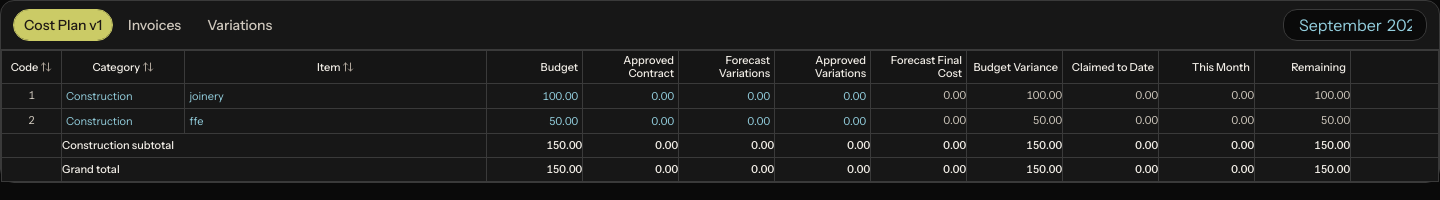
Test: CostPlanGrid › shows a cached Cost Plan and invoice register without a loading flash
Expected: the field named "joinery name" is shown, x1=185 y1=84 x2=486 y2=108
Click the tab "Invoices": coordinates (155, 25) x1=117 y1=9 x2=192 y2=41
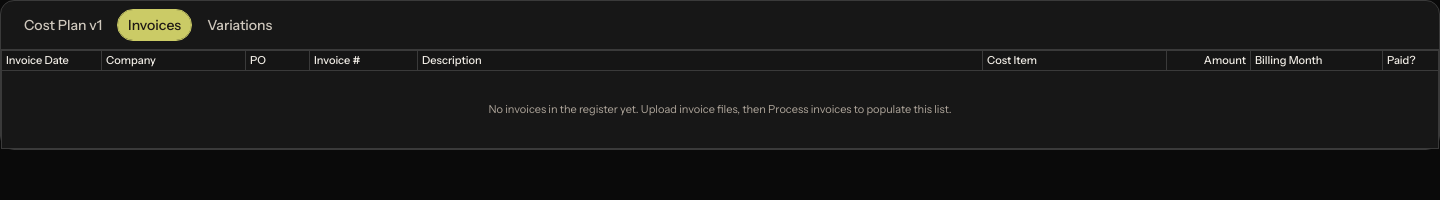
Expected: the text "Upload invoice files, then" is shown, x1=488 y1=102 x2=952 y2=116
